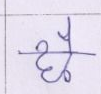ai_matra: (57, 22, 76, 51)
